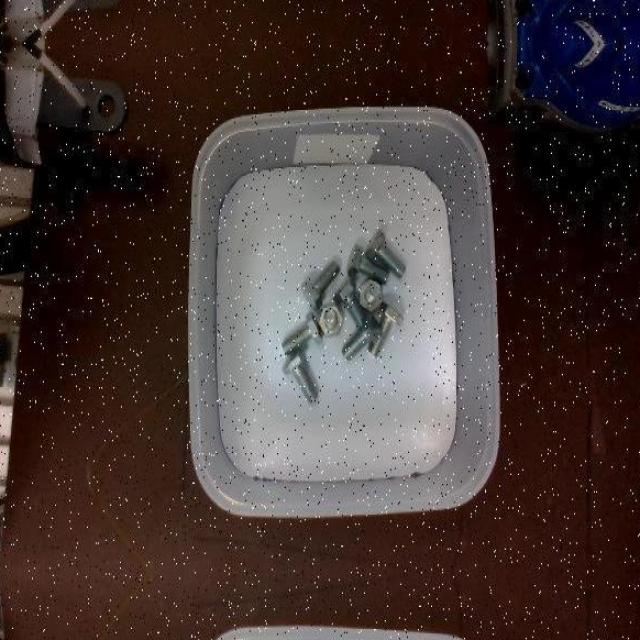screw: (364, 228, 406, 278), (342, 310, 383, 359), (300, 260, 340, 310), (283, 349, 319, 403), (280, 311, 322, 354), (346, 243, 389, 284), (359, 277, 382, 310), (318, 306, 343, 336)
